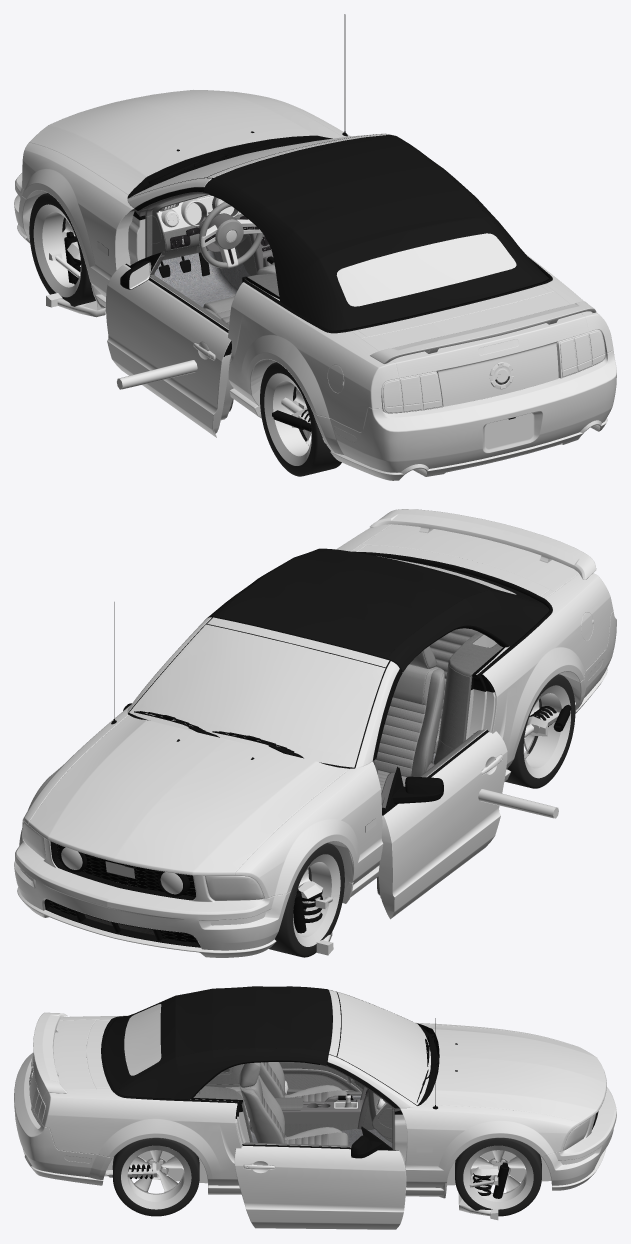
File: vp_frd_mustang_06.glb
The picture shows the model from 3 angles, top to bottom: view 1: azimuth 30°, elevation 25°; view 2: azimuth 150°, elevation 25°; view 3: azimuth 270°, elevation 25°; orthographic projection. The views are drawn at different scales.
Visible parts, largest first — view 1: vp_frd_mustang_06/resources/vehicle/vp_frd_mustang_06/conv_t, vp_frd_mustang_06/resources/vehicle/vp_frd_mustang_06/fender, vp_frd_mustang_06/resources/vehicle/vp_frd_mustang_06/bumper (×2), vp_frd_mustang_06/resources/vehicle/vp_frd_mustang_06/hood0_, vp_frd_mustang_06/resources/vehicle/vp_frd_mustang_06/door_l, vp_frd_mustang_06/resources/vehicle/vp_frd_mustang_06/trunk_, vp_frd_mustang_06/resources/vehicle/vp_frd_mustang_06/interi, vp_frd_mustang_06/resources/vehicle/vp_frd_mustang_06/body_l, vp_frd_mustang_06/resources/vehicle/vp_frd_mustang_06/tailli, vp_frd_mustang_06/resources/vehicle/vp_frd_mustang_06/spoile, shared/resources/rims/whl_stk_frd_mustang_06@axl_2, shared/resources/rims/whl_stk_frd_mustang_06@axl_0 (+6 smaller); view 2: vp_frd_mustang_06/resources/vehicle/vp_frd_mustang_06/hood0_, vp_frd_mustang_06/resources/vehicle/vp_frd_mustang_06/body_l, vp_frd_mustang_06/resources/vehicle/vp_frd_mustang_06/fender, vp_frd_mustang_06/resources/vehicle/vp_frd_mustang_06/conv_t, vp_frd_mustang_06/resources/vehicle/vp_frd_mustang_06/bumper (×2), vp_frd_mustang_06/resources/vehicle/vp_frd_mustang_06/door_l (×2), vp_frd_mustang_06/resources/vehicle/vp_frd_mustang_06/interi, vp_frd_mustang_06/resources/vehicle/vp_frd_mustang_06/seats_, vp_frd_mustang_06/resources/vehicle/vp_frd_mustang_06/trunk_, vp_frd_mustang_06/resources/vehicle/vp_frd_mustang_06/spoile, shared/resources/rims/whl_stk_frd_mustang_06@axl_2, shared/resources/rims/whl_stk_frd_mustang_06@axl_0 (+6 smaller); view 3: vp_frd_mustang_06/resources/vehicle/vp_frd_mustang_06/fender, vp_frd_mustang_06/resources/vehicle/vp_frd_mustang_06/conv_t, vp_frd_mustang_06/resources/vehicle/vp_frd_mustang_06/door_r, vp_frd_mustang_06/resources/vehicle/vp_frd_mustang_06/hood0_, vp_frd_mustang_06/resources/vehicle/vp_frd_mustang_06/body_l, vp_frd_mustang_06/resources/vehicle/vp_frd_mustang_06/bumper (×2), vp_frd_mustang_06/resources/vehicle/vp_frd_mustang_06/interi, vp_frd_mustang_06/resources/vehicle/vp_frd_mustang_06/seats_ (×2), shared/resources/rims/whl_stk_frd_mustang_06@axl_3, vp_frd_mustang_06/resources/vehicle/vp_frd_mustang_06/trunk_, shared/resources/rims/whl_stk_frd_mustang_06@axl_1, shared/resources/tires/models/tir_car@axl_3 (+7 smaller).
Part boxes in pixels (x1,y1,x2,y2): vp_frd_mustang_06/resources/vehicle/vp_frd_mustang_06/conv_t: [203, 135, 548, 330]; vp_frd_mustang_06/resources/vehicle/vp_frd_mustang_06/fender: [22, 14, 613, 432]; vp_frd_mustang_06/resources/vehicle/vp_frd_mustang_06/bumper (×2): [14, 173, 616, 480]; vp_frd_mustang_06/resources/vehicle/vp_frd_mustang_06/hood0_: [29, 90, 342, 195]; vp_frd_mustang_06/resources/vehicle/vp_frd_mustang_06/door_l: [106, 252, 233, 437]; vp_frd_mustang_06/resources/vehicle/vp_frd_mustang_06/trunk_: [361, 291, 588, 406]; vp_frd_mustang_06/resources/vehicle/vp_frd_mustang_06/interi: [115, 191, 279, 307]; vp_frd_mustang_06/resources/vehicle/vp_frd_mustang_06/body_l: [127, 133, 392, 210]; vp_frd_mustang_06/resources/vehicle/vp_frd_mustang_06/tailli: [381, 329, 605, 413]; vp_frd_mustang_06/resources/vehicle/vp_frd_mustang_06/spoile: [370, 301, 596, 363]; shared/resources/rims/whl_stk_frd_mustang_06@axl_2: [264, 373, 311, 465]; shared/resources/rims/whl_stk_frd_mustang_06@axl_0: [33, 204, 81, 297]; vp_frd_mustang_06/resources/vehicle/vp_frd_mustang_06/hood0_: [28, 715, 349, 875]; vp_frd_mustang_06/resources/vehicle/vp_frd_mustang_06/body_l: [127, 617, 402, 768]; vp_frd_mustang_06/resources/vehicle/vp_frd_mustang_06/fender: [22, 524, 613, 898]; vp_frd_mustang_06/resources/vehicle/vp_frd_mustang_06/conv_t: [206, 548, 549, 671]; vp_frd_mustang_06/resources/vehicle/vp_frd_mustang_06/bumper (×2): [14, 611, 616, 957]; vp_frd_mustang_06/resources/vehicle/vp_frd_mustang_06/door_l (×2): [377, 729, 507, 919]; vp_frd_mustang_06/resources/vehicle/vp_frd_mustang_06/interi: [372, 628, 508, 774]; vp_frd_mustang_06/resources/vehicle/vp_frd_mustang_06/seats_: [374, 646, 444, 792]; vp_frd_mustang_06/resources/vehicle/vp_frd_mustang_06/trunk_: [361, 524, 578, 591]; vp_frd_mustang_06/resources/vehicle/vp_frd_mustang_06/spoile: [370, 509, 596, 579]; shared/resources/rims/whl_stk_frd_mustang_06@axl_2: [523, 685, 570, 778]; shared/resources/rims/whl_stk_frd_mustang_06@axl_0: [293, 854, 340, 946]; vp_frd_mustang_06/resources/vehicle/vp_frd_mustang_06/fender: [42, 1015, 580, 1187]; vp_frd_mustang_06/resources/vehicle/vp_frd_mustang_06/conv_t: [104, 986, 331, 1099]; vp_frd_mustang_06/resources/vehicle/vp_frd_mustang_06/door_r: [234, 1126, 406, 1229]; vp_frd_mustang_06/resources/vehicle/vp_frd_mustang_06/hood0_: [421, 1024, 606, 1124]; vp_frd_mustang_06/resources/vehicle/vp_frd_mustang_06/body_l: [86, 989, 439, 1128]; vp_frd_mustang_06/resources/vehicle/vp_frd_mustang_06/bumper (×2): [14, 1052, 616, 1190]; vp_frd_mustang_06/resources/vehicle/vp_frd_mustang_06/interi: [191, 1064, 407, 1164]; vp_frd_mustang_06/resources/vehicle/vp_frd_mustang_06/seats_ (×2): [238, 1062, 348, 1145]; shared/resources/rims/whl_stk_frd_mustang_06@axl_3: [121, 1145, 191, 1209]; vp_frd_mustang_06/resources/vehicle/vp_frd_mustang_06/trunk_: [29, 1019, 96, 1105]; shared/resources/rims/whl_stk_frd_mustang_06@axl_1: [463, 1145, 533, 1209]; shared/resources/tires/models/tir_car@axl_3: [112, 1138, 199, 1216].
Size of the model in its own units: 2.58 by 1.8 by 4.8.
154 materials, 74 textured.
